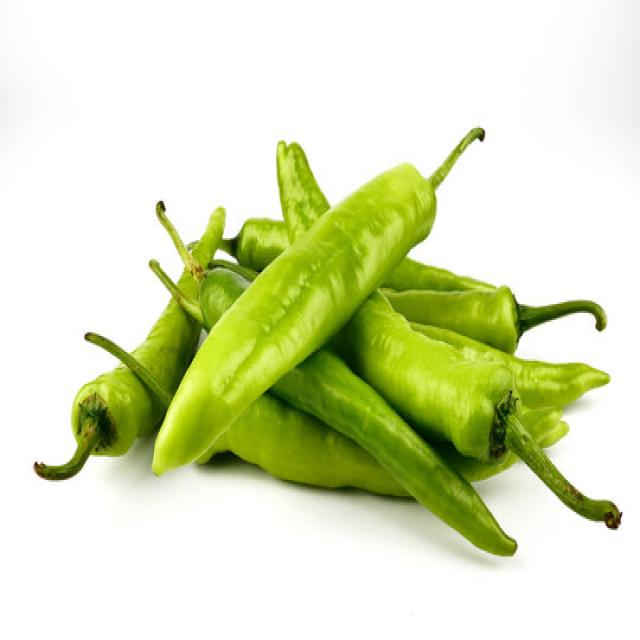Chilli: (33, 124, 621, 556), (150, 123, 486, 478), (32, 199, 226, 480), (268, 343, 517, 557)
